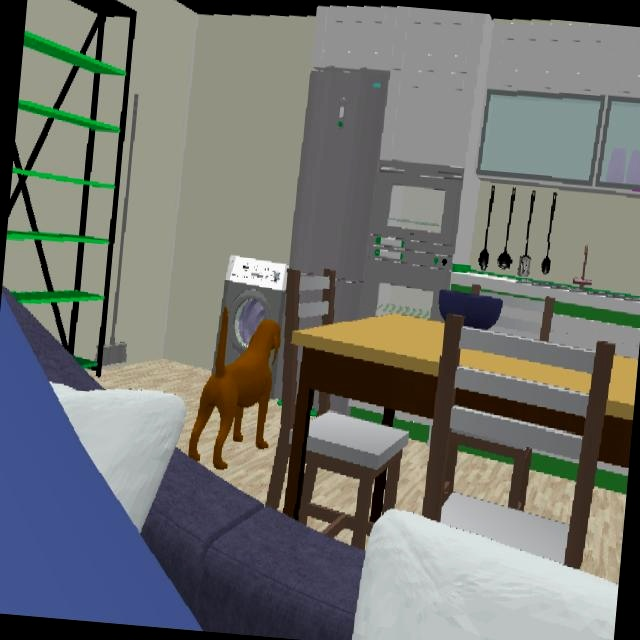cabinet: (311, 5, 640, 263)
chair: (423, 315, 614, 566), (267, 271, 334, 507), (300, 411, 408, 547)
fridge: (289, 68, 390, 321)
microwave: (371, 160, 463, 253)
oven: (362, 246, 452, 321)
pillow: (353, 509, 616, 640), (51, 383, 184, 530)
shelf: (23, 31, 126, 75), (18, 100, 119, 132), (12, 167, 114, 187), (7, 230, 108, 246), (15, 289, 103, 303)
sink: (509, 245, 640, 299)
sofa: (141, 450, 364, 640), (2, 288, 99, 390)
table: (284, 314, 442, 516), (456, 388, 582, 433), (460, 350, 590, 391), (599, 356, 638, 466)
